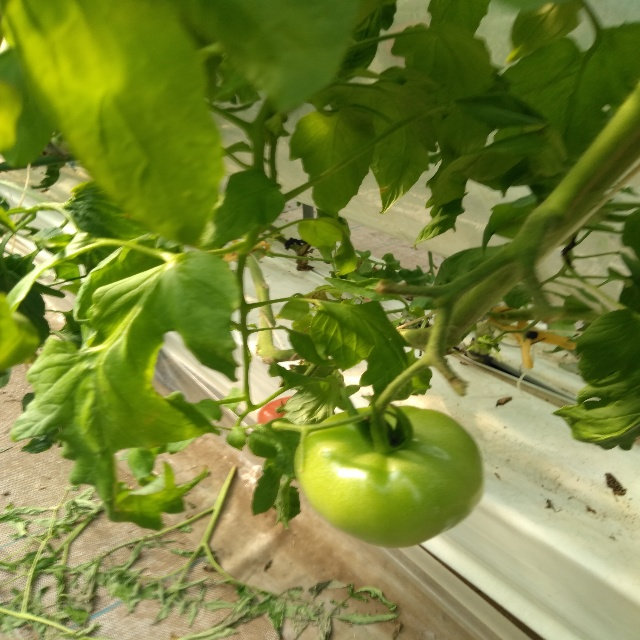b_green: (293, 405, 485, 548)
